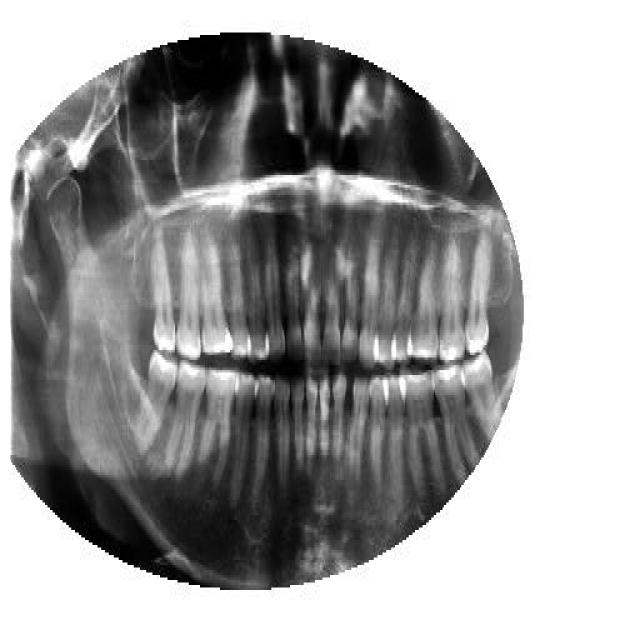Fillings: (201, 235, 235, 357)
